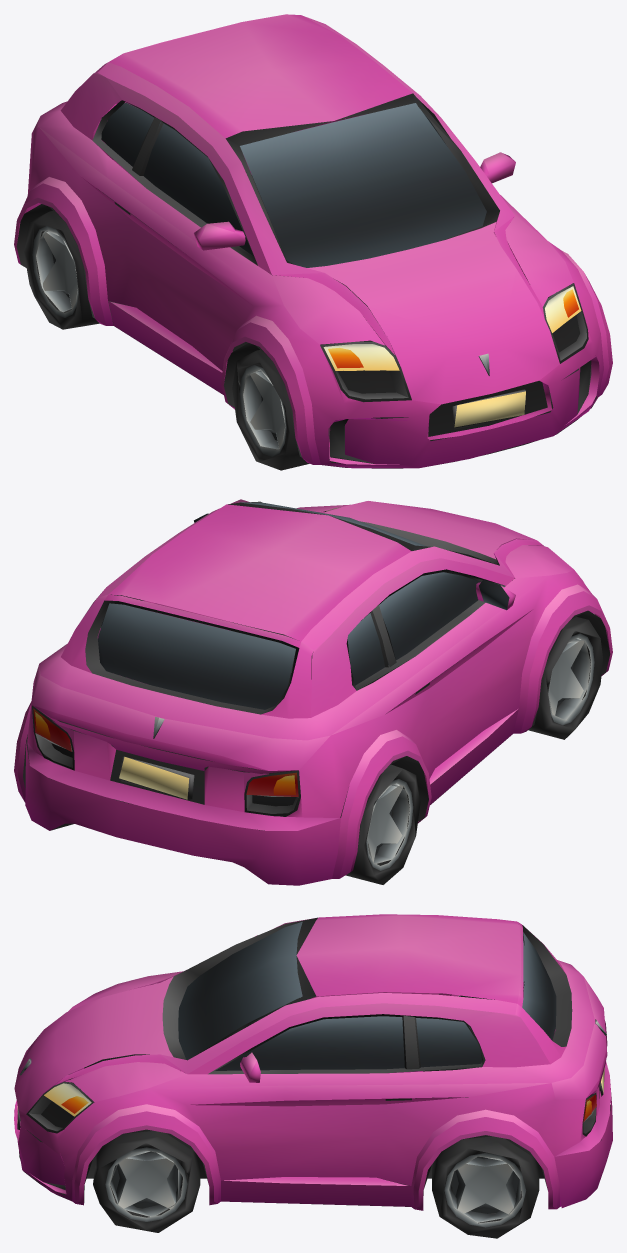
File: Car_7D.fbx
The picture shows the model from 3 angles, top to bottom: view 1: azimuth 30°, elevation 25°; view 2: azimuth 150°, elevation 25°; view 3: azimuth 270°, elevation 25°; orthographic projection. The views are drawn at different scales.
Visible parts, largest first — view 1: Car_7D, Wheel_7D_R.R, Wheel_7D_F.R; view 2: Car_7D, Wheel_7D_F.R, Wheel_7D_R.R; view 3: Car_7D, Wheel_7D_R.L, Wheel_7D_F.L.
Part boxes in pixels (x1,y1,x2,y2): Car_7D: [14, 14, 612, 468]; Wheel_7D_R.R: [23, 211, 99, 329]; Wheel_7D_F.R: [232, 350, 309, 470]; Car_7D: [14, 499, 612, 885]; Wheel_7D_F.R: [528, 617, 602, 739]; Wheel_7D_R.R: [345, 764, 420, 884]; Car_7D: [14, 914, 612, 1210]; Wheel_7D_R.L: [432, 1136, 539, 1238]; Wheel_7D_F.L: [93, 1131, 200, 1232].
Bounding box in the file's own units: 263 × 186 × 459.
